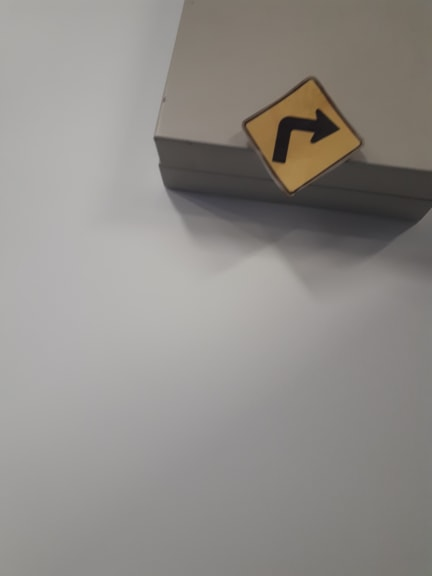right: (241, 73, 368, 195), (259, 99, 350, 181), (264, 104, 353, 146)
